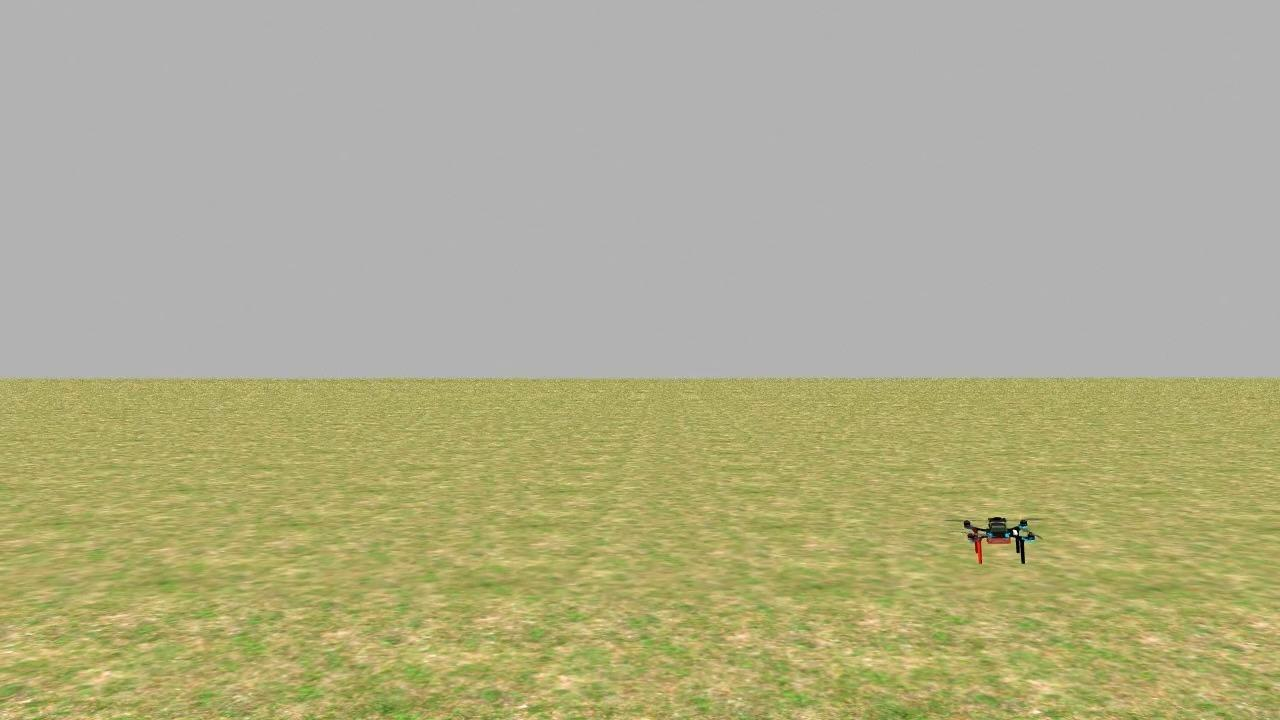UAV: (956, 503, 1041, 572)
